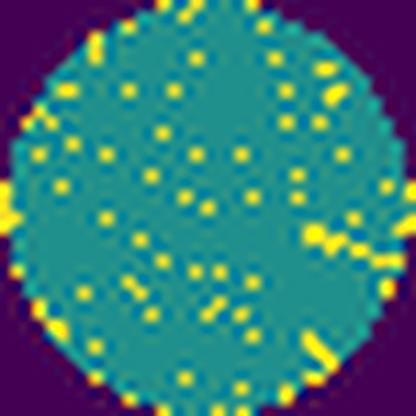Scratch: (300, 220, 406, 276)
